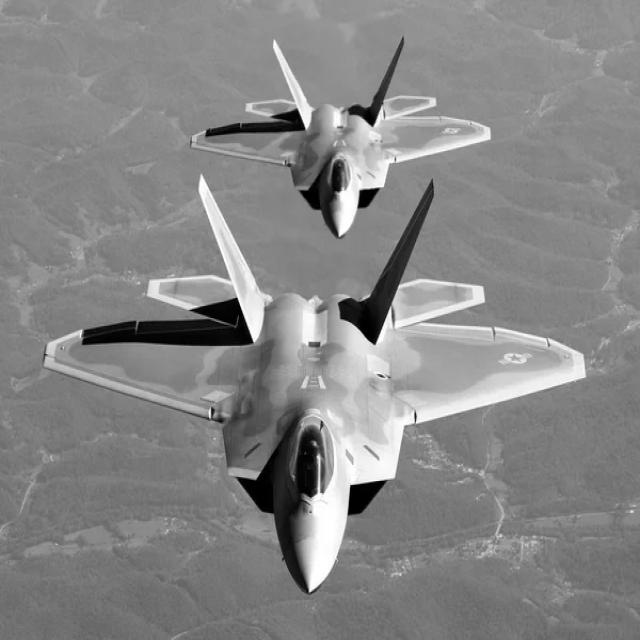Aircraft: (41, 177, 599, 589), (190, 35, 509, 238)
